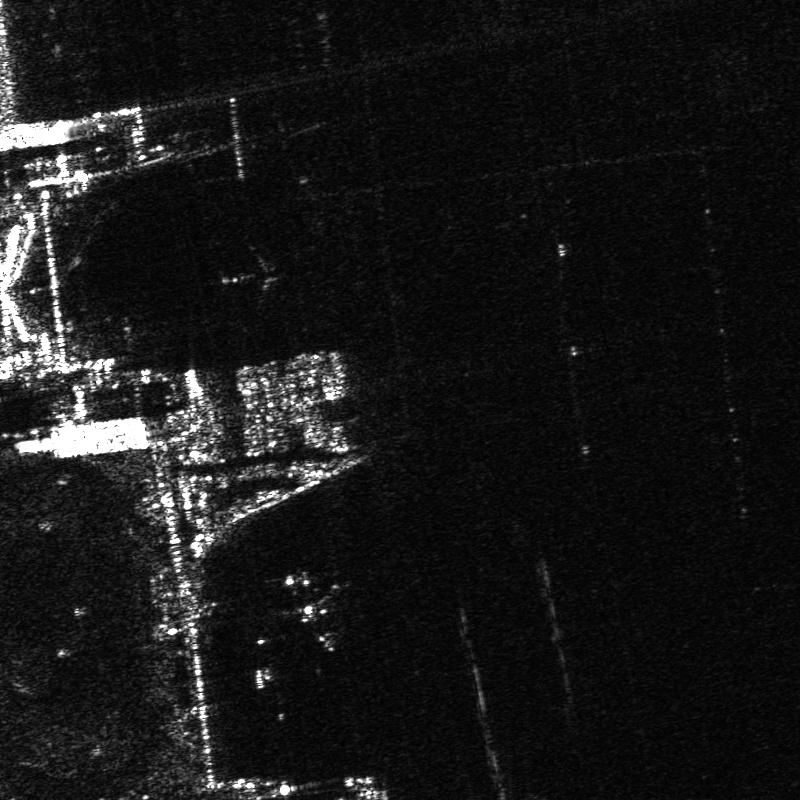Boeing787: (257, 559, 349, 654)
other: (215, 241, 297, 305)
